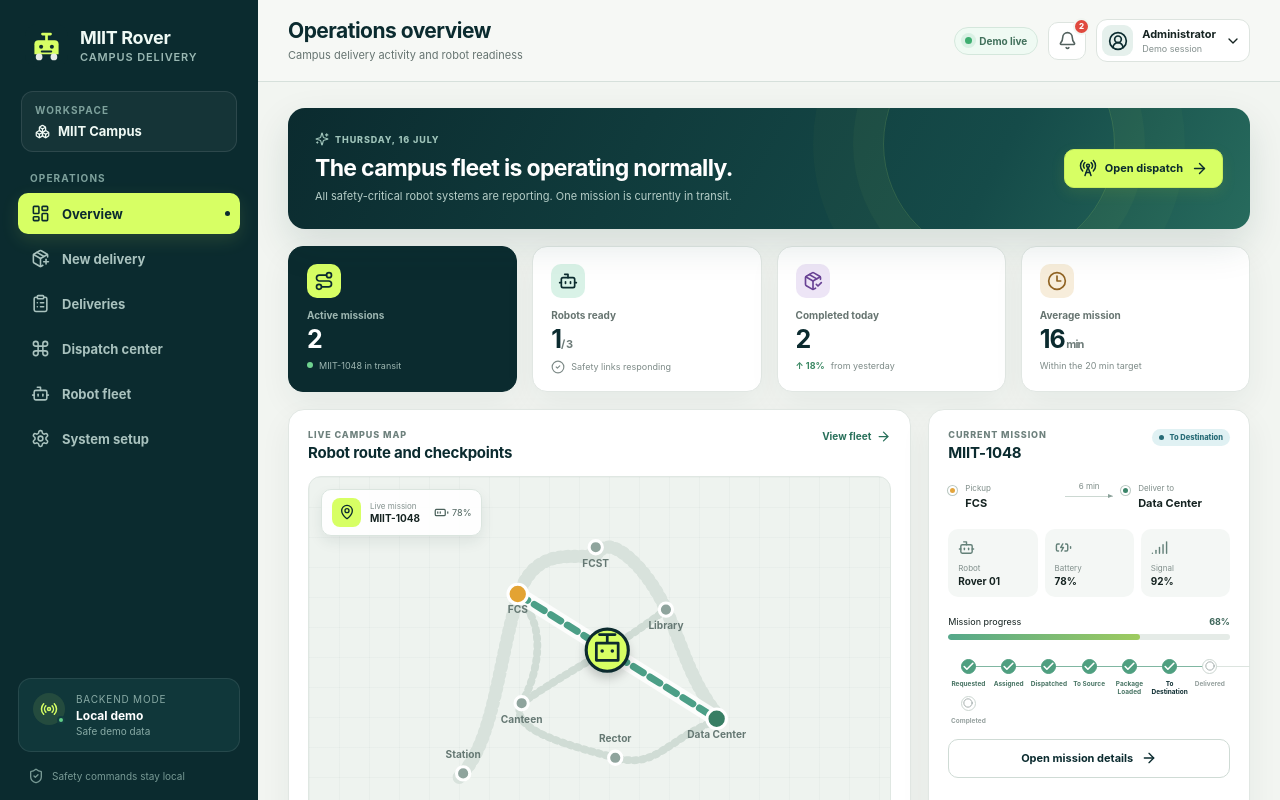
Test: MIIT Rover delivery workflows › creates a valid delivery request
The width and height of the screenshot is (1280, 800).
Click the link "New delivery" at (88, 258), box [31,249,145,268]
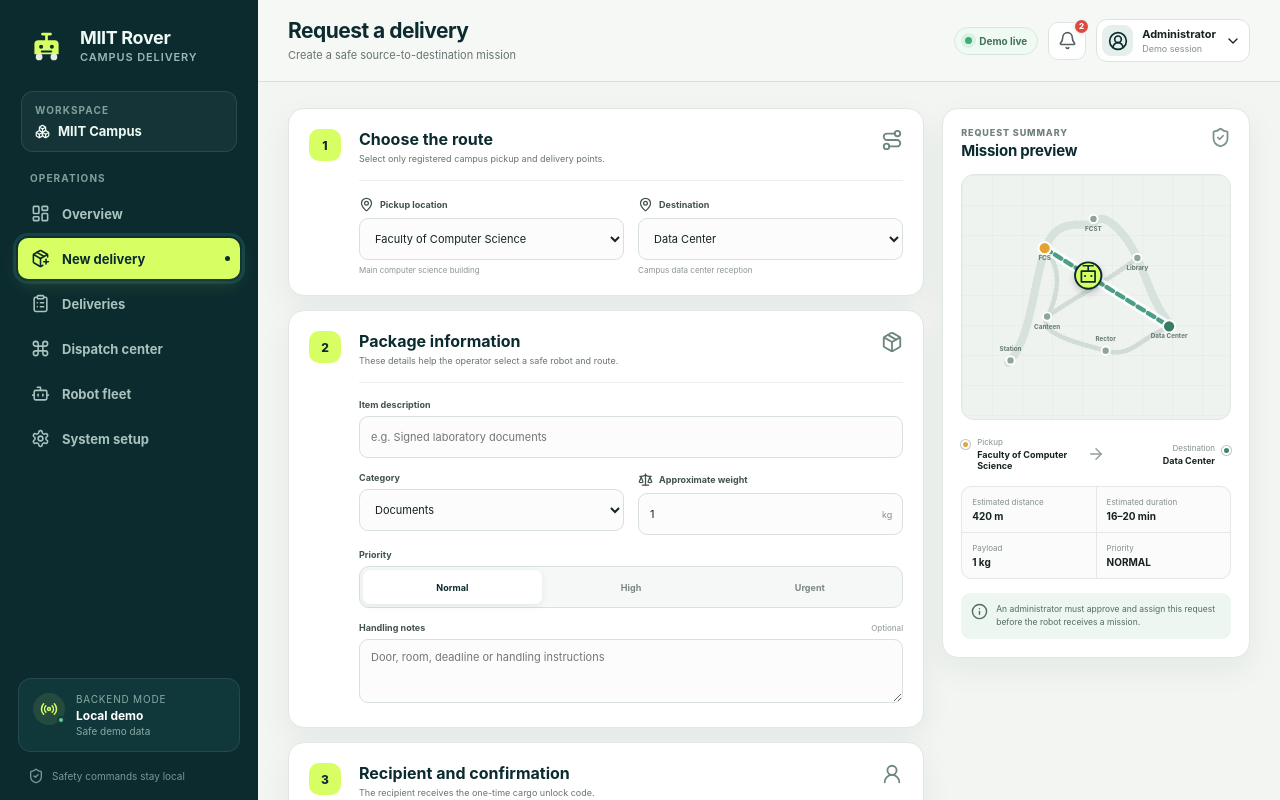
Type "Sensor calibration kit" into the field with placeholder "e.g. Signed laboratory documents" at (631, 437), box [359,416,903,458]
(page scrolled)
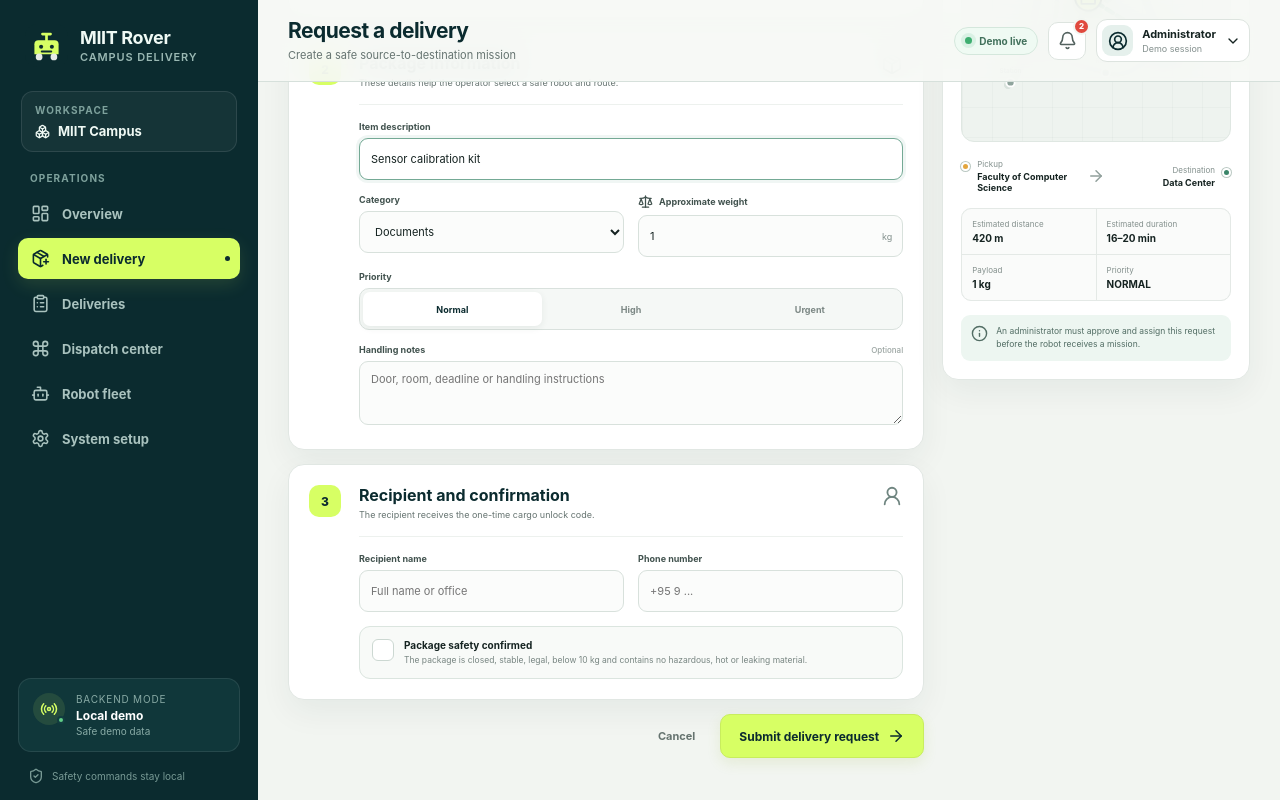
Type "Embedded Systems Lab" into the field with placeholder "Full name or office" at (492, 591), box [359,570,624,612]
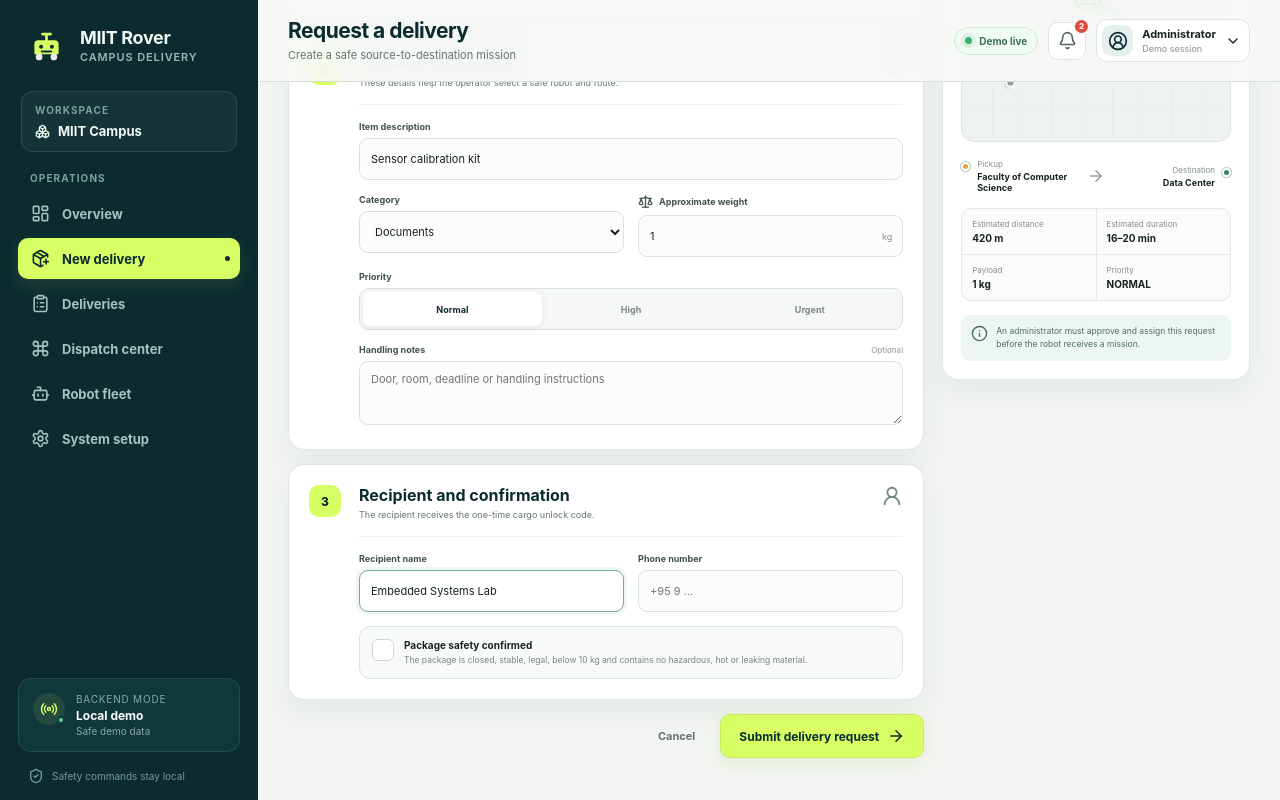
Type "+95 9 777 555 111" into the field with placeholder "+95 9 ..." at (771, 591), box [638,570,903,612]
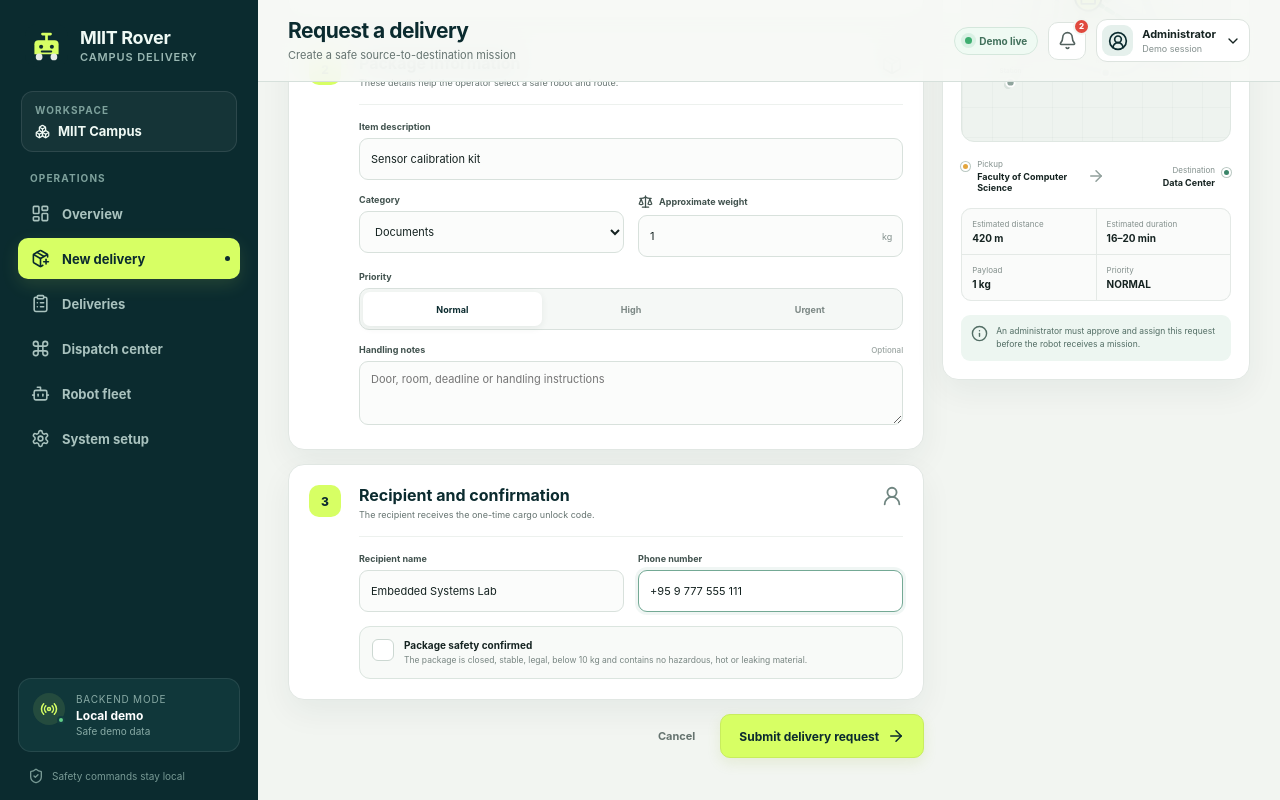
Click the checkbox at (631, 653), box [359,626,903,679]
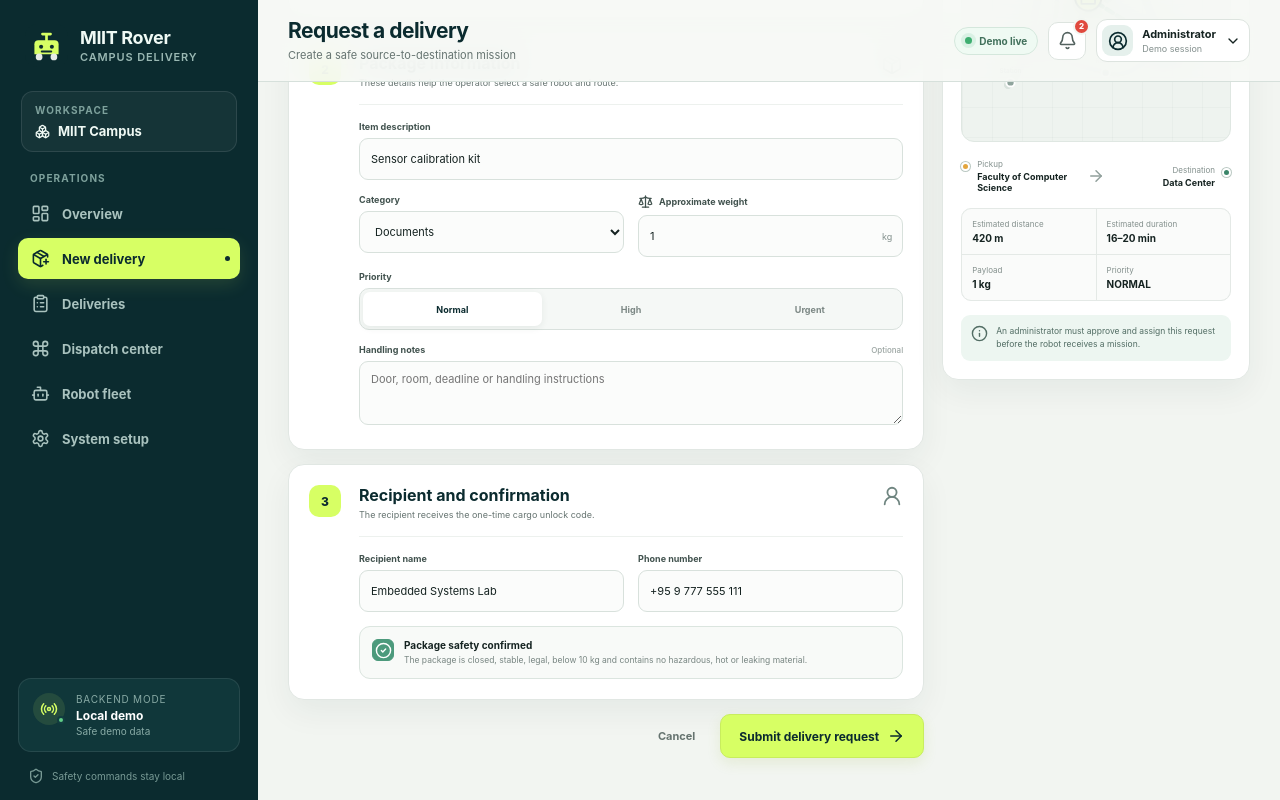
Click the button "Submit delivery request" at (822, 736), box [720,714,924,758]
(page scrolled)
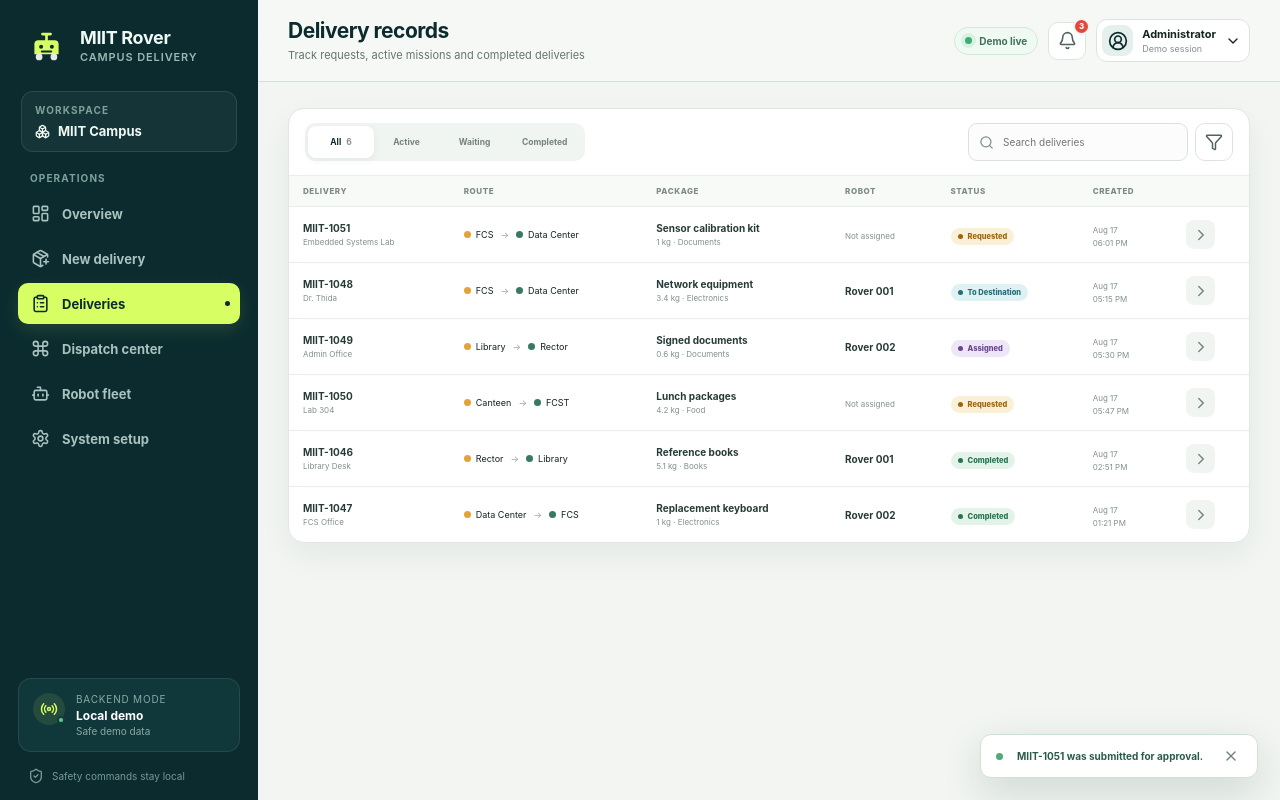
Expected: the text "MIIT-1051" is shown, [303,222,350,234]
Expected: the text "Sensor calibration kit" is shown, [656,222,760,234]
